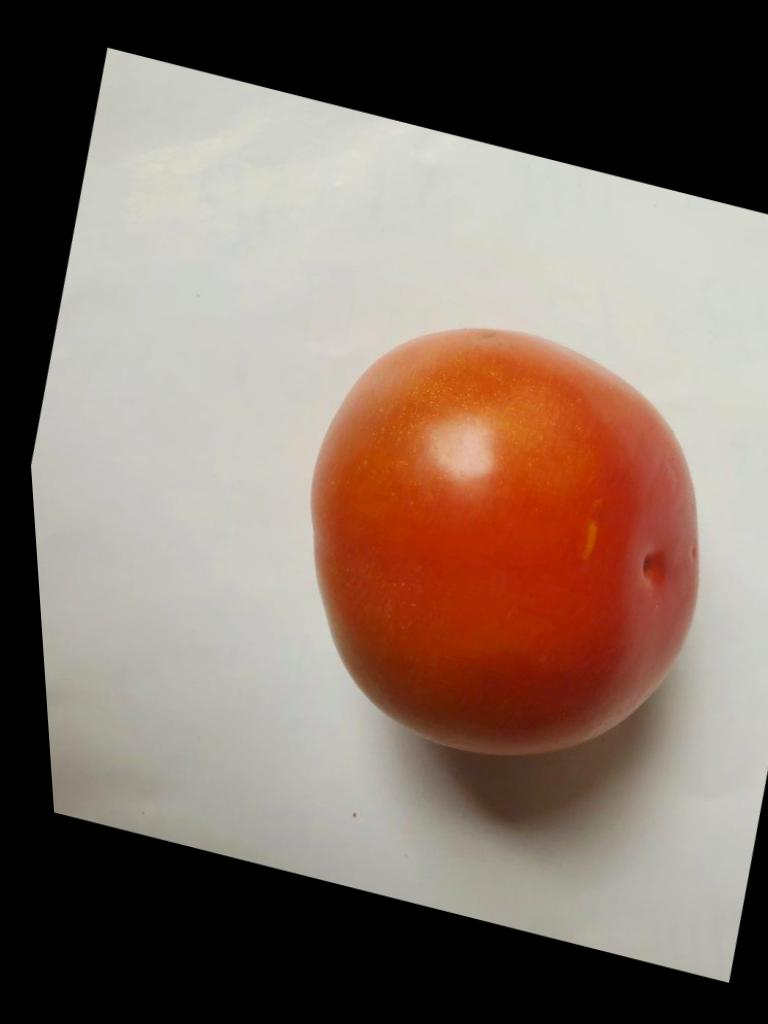tomato: (314, 330, 696, 752)
